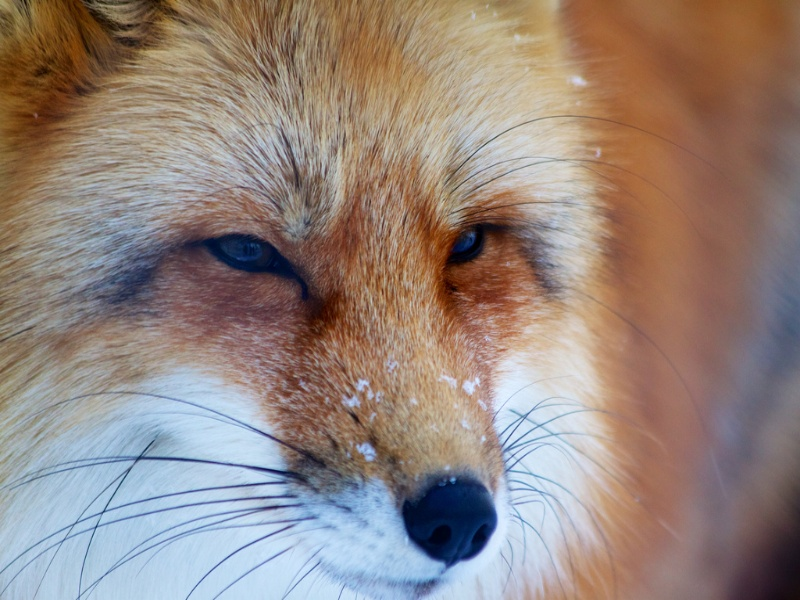fox: (1, 1, 612, 592)
